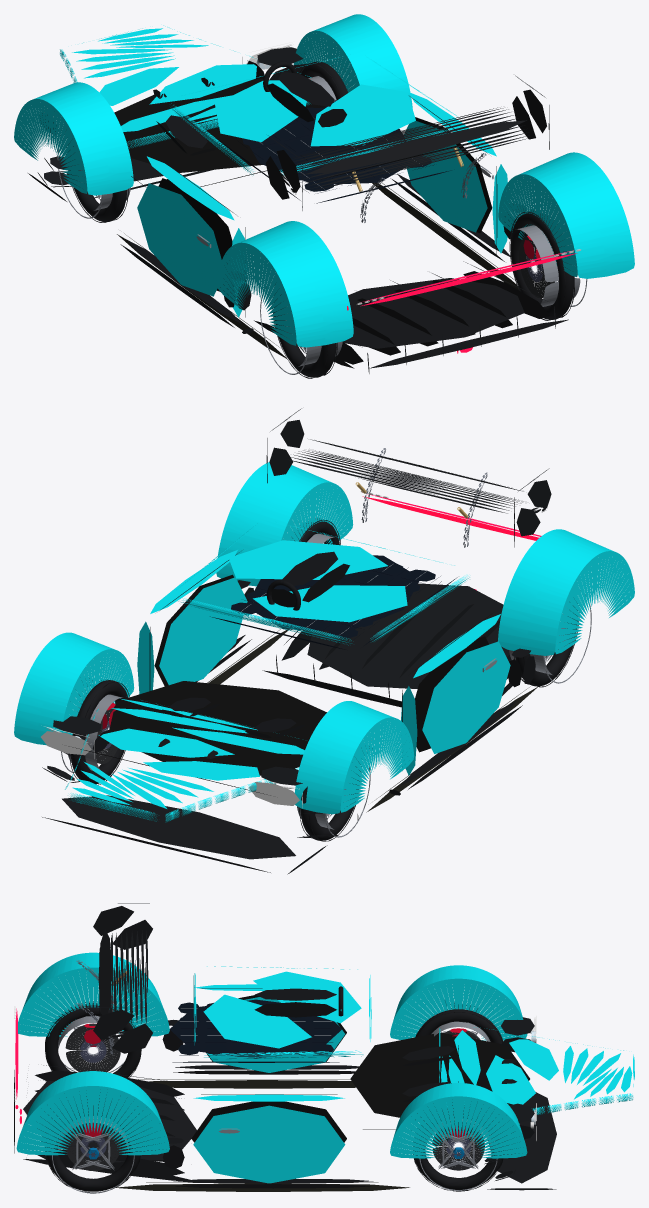
Rendered from vehicle_hypercar_apex_gt3.glb.
The picture shows the model from 3 angles, top to bottom: view 1: azimuth 30°, elevation 25°; view 2: azimuth 150°, elevation 25°; view 3: azimuth 270°, elevation 25°; orthographic projection. The views are drawn at different scales.
Parts seen in each view (by area): view 1: ClassA_Bonnet_Assembly, Active_MultiElement_RearWing_Group, Door_Assembly_Left, Photovoltaic_SolarRoof_Subassembly, Tire_Cup2R_Assembly.003, Underbody_Venturi_GroundEffect_System, Tire_Cup2R_Assembly.002, Rear_3DOled_LightBlade_Assembly, Tire_Cup2R_Assembly, Headlight_Cluster_Left, CSiC_Brake_Assembly.003, Tire_Cup2R_Assembly.001; view 2: ClassA_Bonnet_Assembly, Active_MultiElement_RearWing_Group, Door_Assembly_Left, Photovoltaic_SolarRoof_Subassembly, Headlight_Cluster_Left, Tire_Cup2R_Assembly.001, Tire_Cup2R_Assembly.002, Tire_Cup2R_Assembly, Underbody_Venturi_GroundEffect_System, Rear_3DOled_LightBlade_Assembly, Forged_Rim_Assembly.001, Tire_Cup2R_Assembly.003; view 3: ClassA_Bonnet_Assembly, Active_MultiElement_RearWing_Group, Door_Assembly_Left, Photovoltaic_SolarRoof_Subassembly, Underbody_Venturi_GroundEffect_System, Tire_Cup2R_Assembly.003, Tire_Cup2R_Assembly.002, CSiC_Brake_Assembly.002, CSiC_Brake_Assembly.003, Tire_Cup2R_Assembly, Tire_Cup2R_Assembly.001, CSiC_Brake_Assembly.001 (+2 smaller).
Part boxes in pixels (left/top/right/bottom): ClassA_Bonnet_Assembly: left=14, top=14, right=634, bottom=347; Active_MultiElement_RearWing_Group: left=28, top=75, right=568, bottom=373; Door_Assembly_Left: left=114, top=78, right=497, bottom=317; Photovoltaic_SolarRoof_Subassembly: left=206, top=100, right=451, bottom=203; Tire_Cup2R_Assembly.003: left=509, top=210, right=587, bottom=320; Underbody_Venturi_GroundEffect_System: left=117, top=183, right=519, bottom=359; Tire_Cup2R_Assembly.002: left=260, top=284, right=342, bottom=378; Rear_3DOled_LightBlade_Assembly: left=347, top=249, right=581, bottom=353; Tire_Cup2R_Assembly: left=57, top=143, right=130, bottom=222; Headlight_Cluster_Left: left=40, top=42, right=306, bottom=133; CSiC_Brake_Assembly.003: left=518, top=236, right=554, bottom=297; Tire_Cup2R_Assembly.001: left=299, top=61, right=347, bottom=100; ClassA_Bonnet_Assembly: left=14, top=462, right=634, bottom=822; Active_MultiElement_RearWing_Group: left=42, top=408, right=551, bottom=874; Door_Assembly_Left: left=68, top=552, right=497, bottom=795; Photovoltaic_SolarRoof_Subassembly: left=210, top=555, right=457, bottom=649; Headlight_Cluster_Left: left=41, top=716, right=307, bottom=807; Tire_Cup2R_Assembly.001: left=69, top=679, right=129, bottom=785; Tire_Cup2R_Assembly.002: left=509, top=594, right=591, bottom=687; Tire_Cup2R_Assembly: left=297, top=761, right=370, bottom=841; Underbody_Venturi_GroundEffect_System: left=207, top=629, right=537, bottom=820; Rear_3DOled_LightBlade_Assembly: left=361, top=491, right=541, bottom=590; Forged_Rim_Assembly.001: left=61, top=694, right=122, bottom=772; Tire_Cup2R_Assembly.003: left=291, top=518, right=340, bottom=545; ClassA_Bonnet_Assembly: left=16, top=952, right=634, bottom=1188; Active_MultiElement_RearWing_Group: left=14, top=903, right=556, bottom=1190; Door_Assembly_Left: left=191, top=988, right=529, bottom=1142; Photovoltaic_SolarRoof_Subassembly: left=170, top=999, right=342, bottom=1062; Underbody_Venturi_GroundEffect_System: left=116, top=1079, right=409, bottom=1191; Tire_Cup2R_Assembly.003: left=45, top=1102, right=140, bottom=1193; Tire_Cup2R_Assembly.002: left=45, top=1001, right=141, bottom=1077; CSiC_Brake_Assembly.002: left=65, top=1023, right=120, bottom=1072; CSiC_Brake_Assembly.003: left=65, top=1122, right=120, bottom=1170; Tire_Cup2R_Assembly: left=415, top=1008, right=503, bottom=1043; Tire_Cup2R_Assembly.001: left=413, top=1105, right=503, bottom=1191; CSiC_Brake_Assembly.001: left=432, top=1125, right=484, bottom=1170.
Size of the model in its own units: 2.5 by 1.57 by 4.67.
